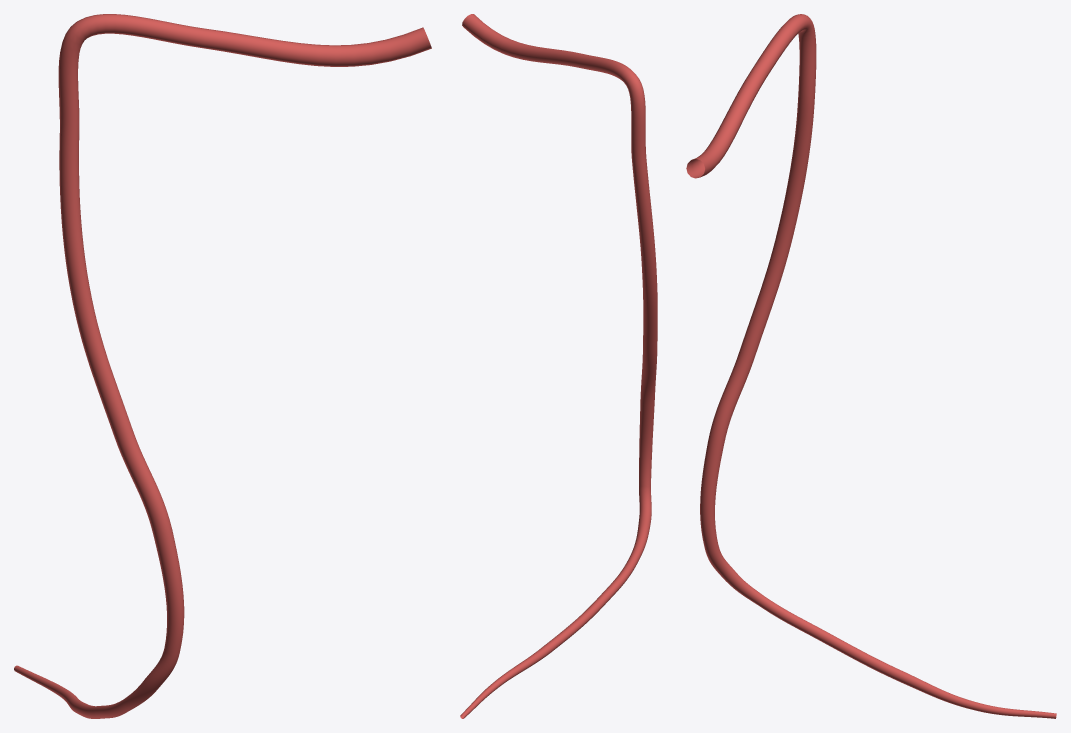
3 views of the same model, side by side, from view 1: azimuth 30°, elevation 25°; view 2: azimuth 150°, elevation 25°; view 3: azimuth 270°, elevation 25° (orthographic). The views are drawn at different scales.
Parts seen in each view (by area): view 1: 左侧筛前动脉; view 2: 左侧筛前动脉; view 3: 左侧筛前动脉.
Part boxes in pixels (x1,y1,x2,y2): 左侧筛前动脉: (14,14,431,718); 左侧筛前动脉: (460,14,657,718); 左侧筛前动脉: (686,14,1056,718).
Size of the model in its own units: 0.016 by 0.0387 by 0.0193.
